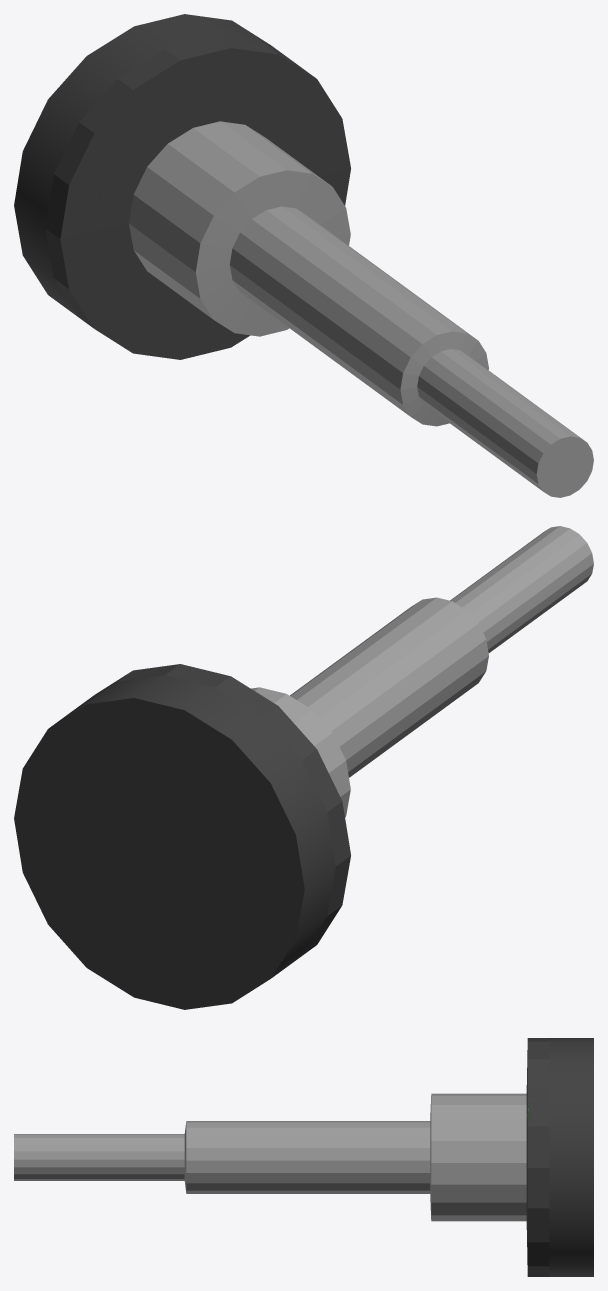
The model's file is RayExit.fbx.
3 views of the same model, one above another, from view 1: azimuth 30°, elevation 25°; view 2: azimuth 150°, elevation 25°; view 3: azimuth 270°, elevation 25° (orthographic). The views are drawn at different scales.
Parts seen in each view (by area): view 1: Cylinder001; view 2: Cylinder001; view 3: Cylinder001.
Boxes of the visible parts, x1,y1,x2,y2 form: Cylinder001: (14, 14, 593, 497); Cylinder001: (14, 526, 593, 1009); Cylinder001: (14, 1038, 593, 1276).
Bounding box in the file's own units: 82.72 × 81.46 × 200.
1 material, 1 textured.
